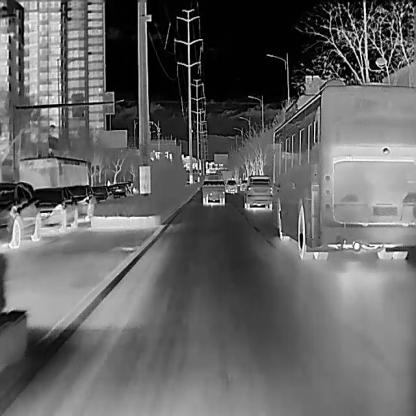bus: (266, 77, 416, 259), (17, 155, 88, 190)
car: (0, 181, 40, 248), (32, 187, 78, 232), (65, 185, 96, 222), (92, 183, 113, 203), (109, 181, 131, 198), (226, 180, 236, 192), (239, 180, 247, 190)
truck: (243, 175, 271, 208), (201, 173, 224, 204)
